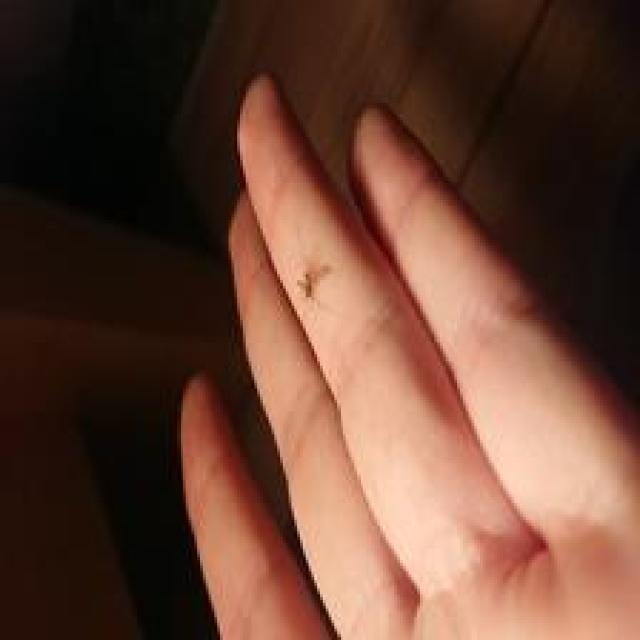Culex: (294, 263, 332, 303)
